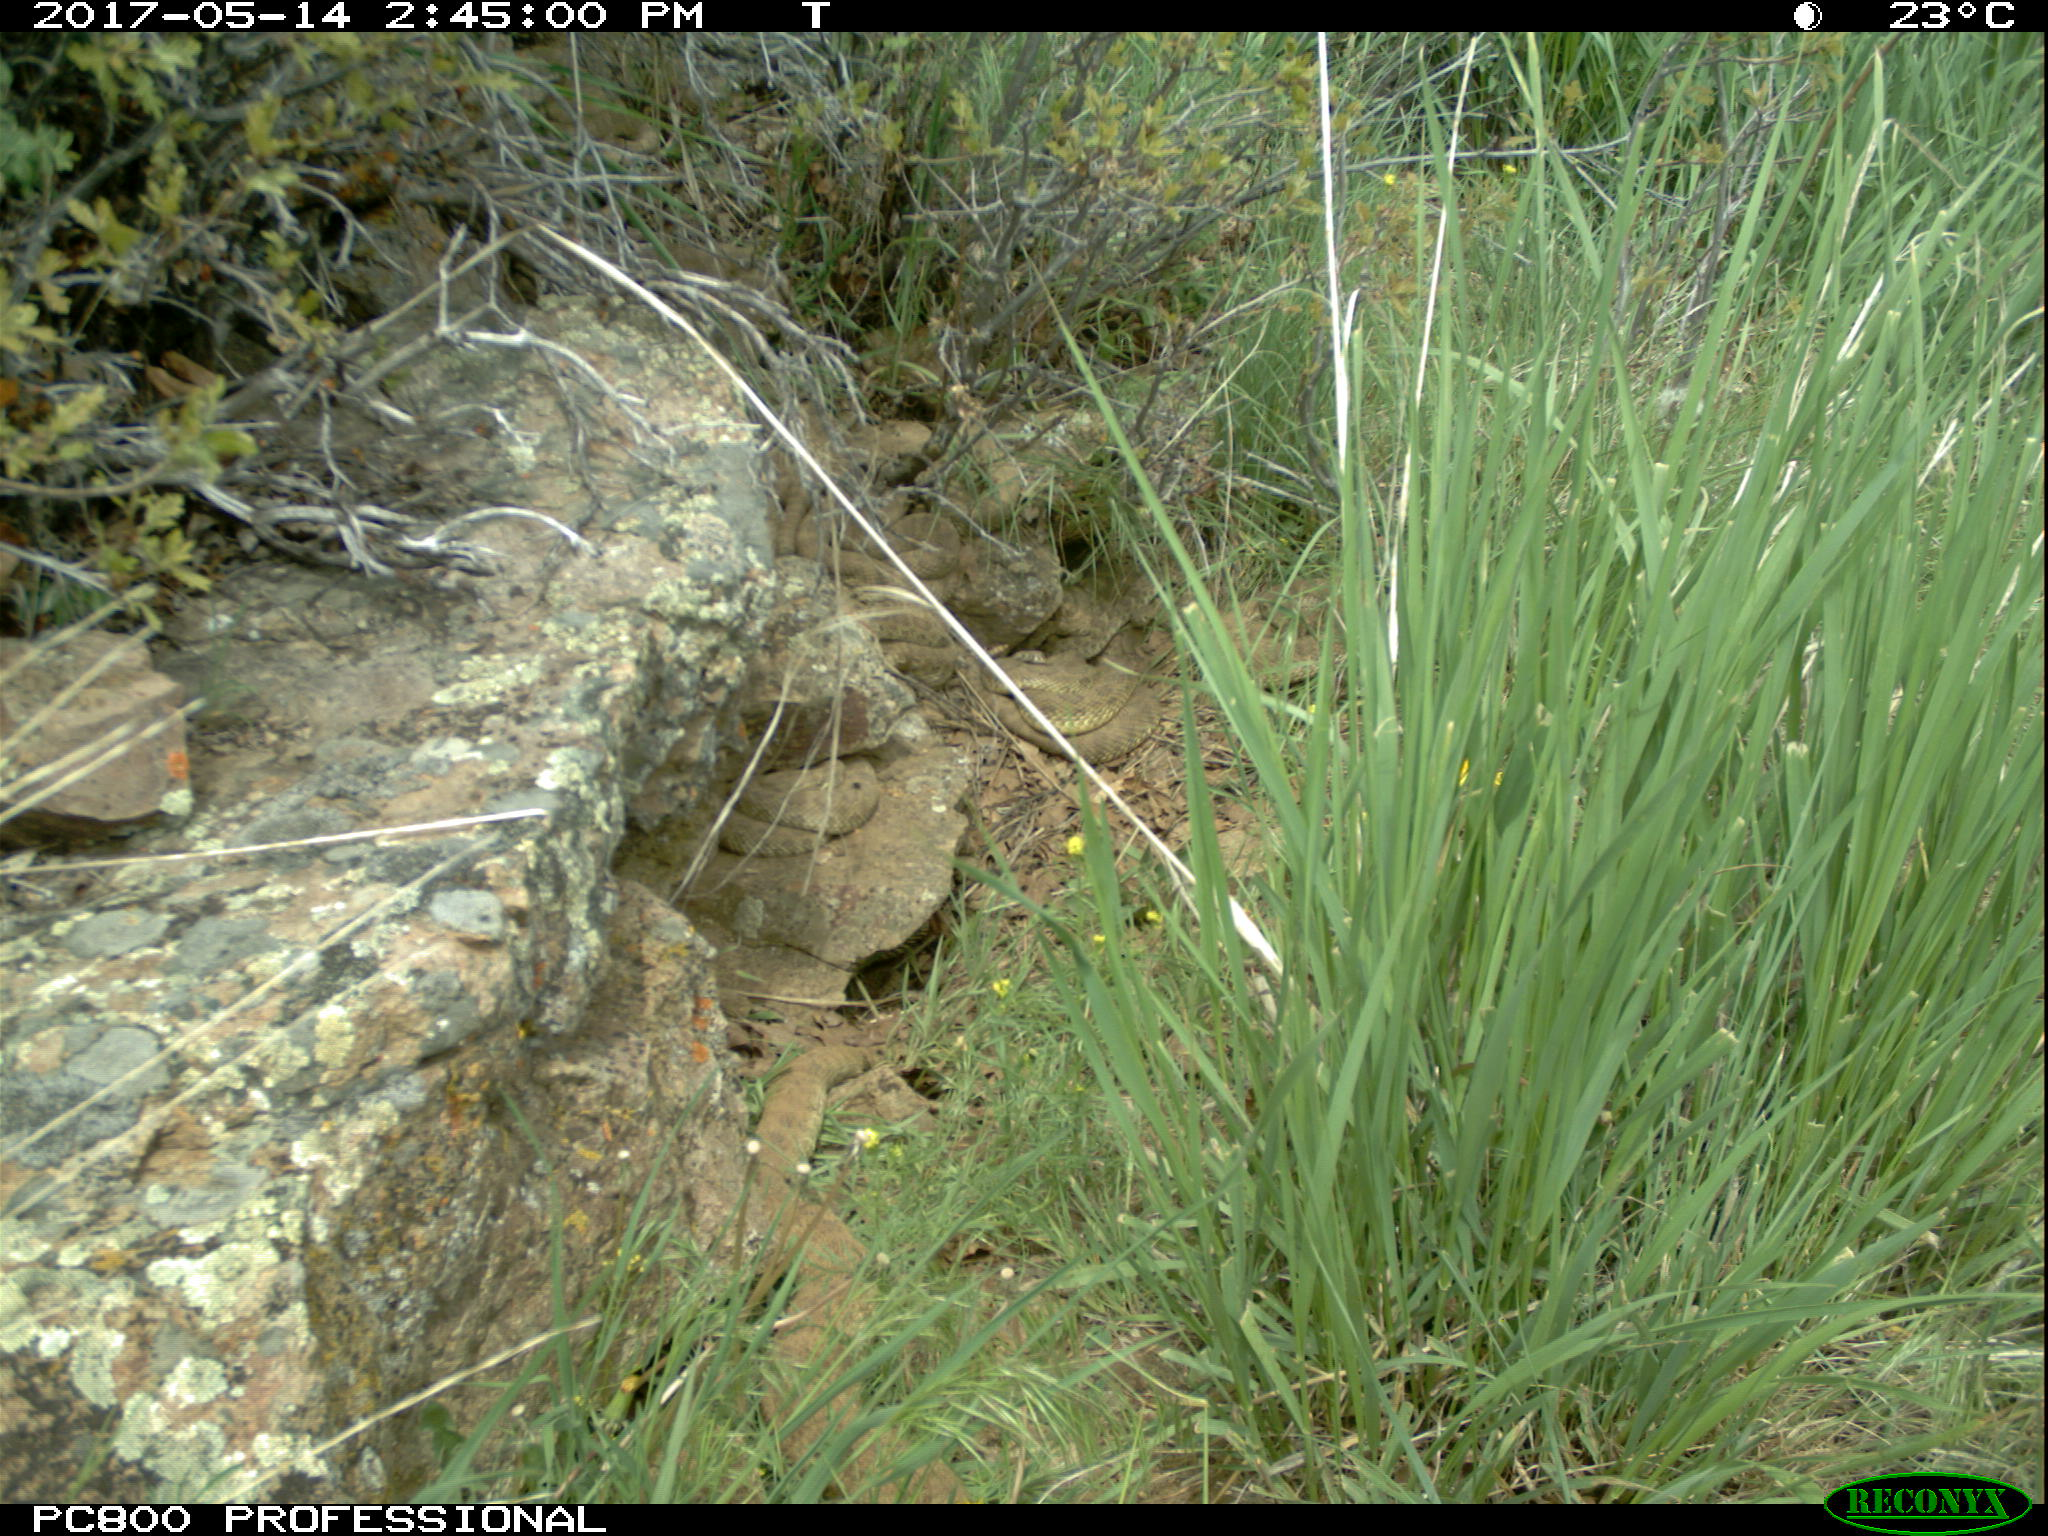snake: (742, 1041, 930, 1488), (706, 757, 880, 862), (784, 492, 974, 587), (992, 660, 1161, 763), (1214, 574, 1361, 692), (1047, 549, 1177, 657), (861, 599, 966, 691), (547, 98, 664, 163)
